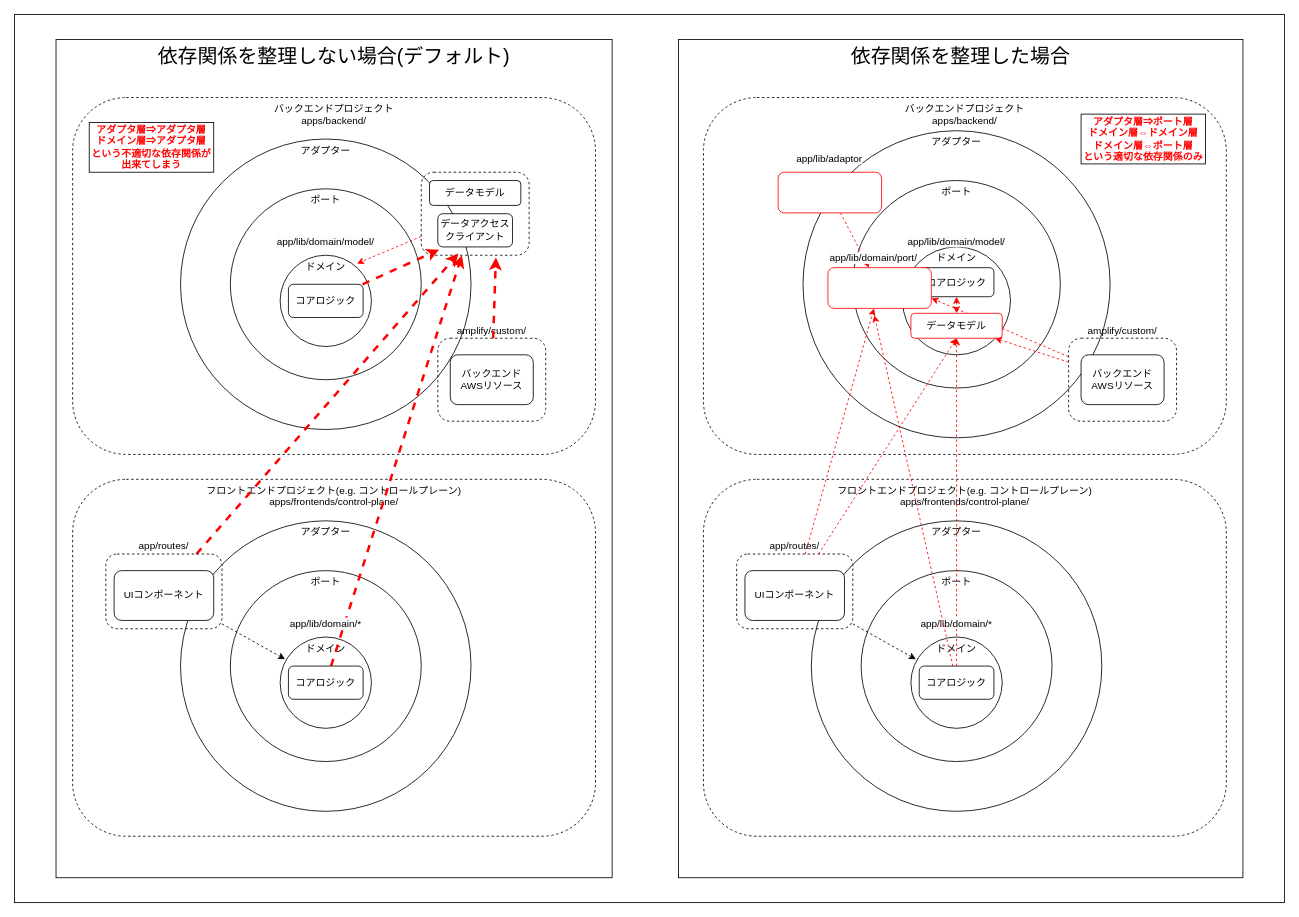
Image size: 1299x917. Some labels were removed from this diagram. Each missing label, with the box of its shape:
amplify/data/: (420, 171, 529, 255)
データアクセス クライアント インターフェース: (827, 267, 931, 308)
データアクセス クライアント リポジトリ(実装): (777, 171, 882, 213)
